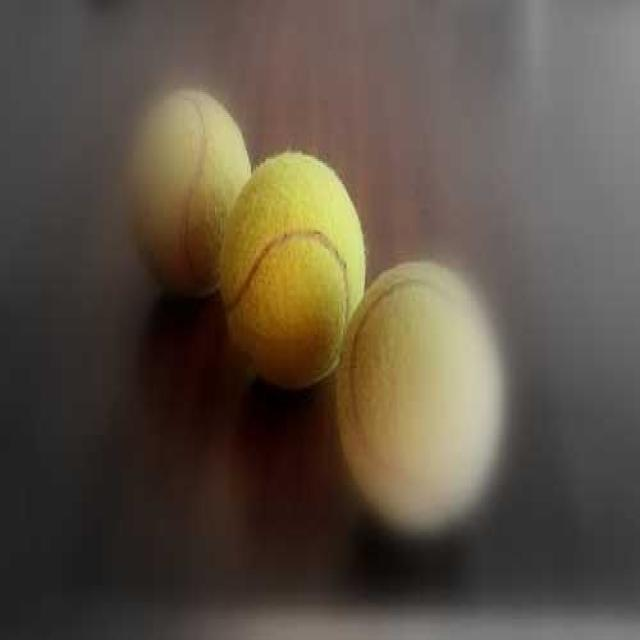Tennis_Ball: (333, 264, 513, 534), (225, 142, 370, 399), (133, 85, 250, 296)
